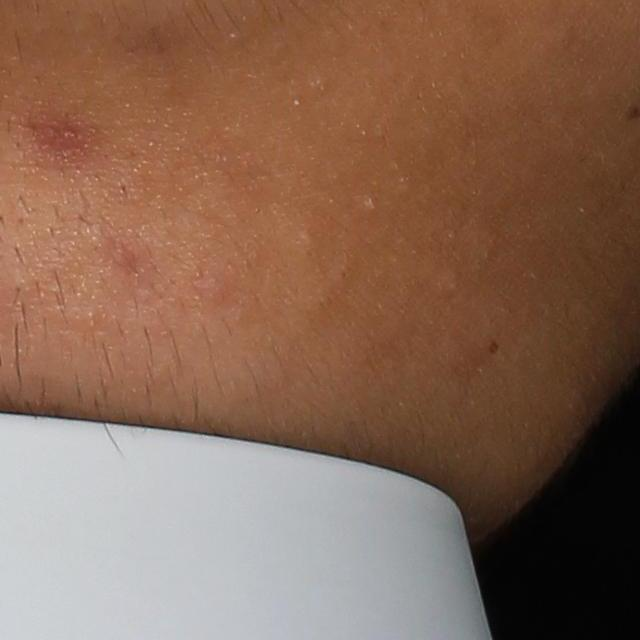comedo: (365, 199, 378, 212)
